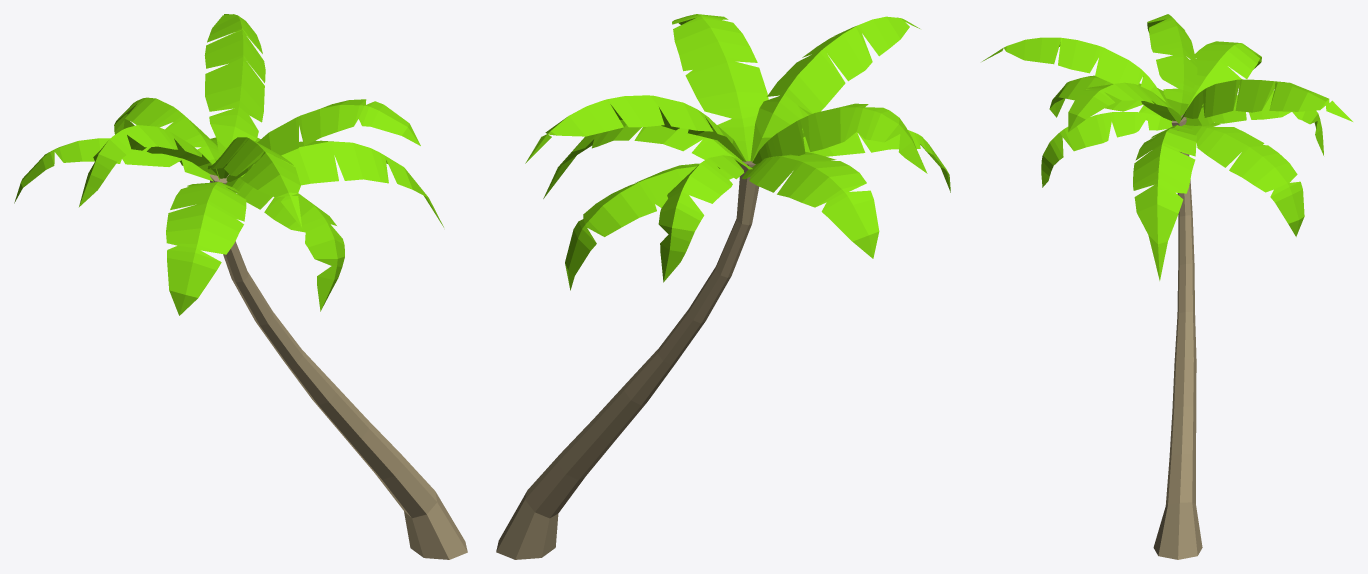
Rendered from palm04.fbx.
The picture shows the model from 3 angles, left to right: view 1: azimuth 30°, elevation 25°; view 2: azimuth 150°, elevation 25°; view 3: azimuth 270°, elevation 25°; orthographic projection. The views are drawn at different scales.
Parts seen in each view (by area): view 1: palm.004; view 2: palm.004; view 3: palm.004.
Boxes of the visible parts, box(x1,y1,x2,y2) form: palm.004: box(14, 14, 467, 559); palm.004: box(496, 14, 950, 559); palm.004: box(982, 14, 1352, 559).
Size of the model in its own units: 261 by 312 by 256.
